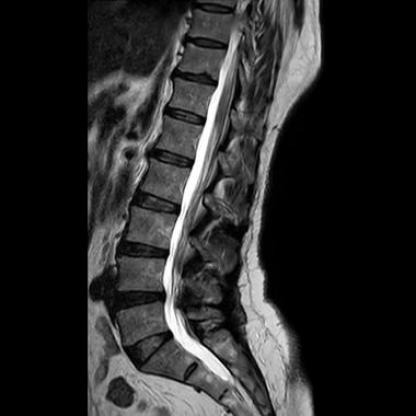Disc Bulgerotation: (111, 288, 167, 312), (117, 240, 169, 261)
